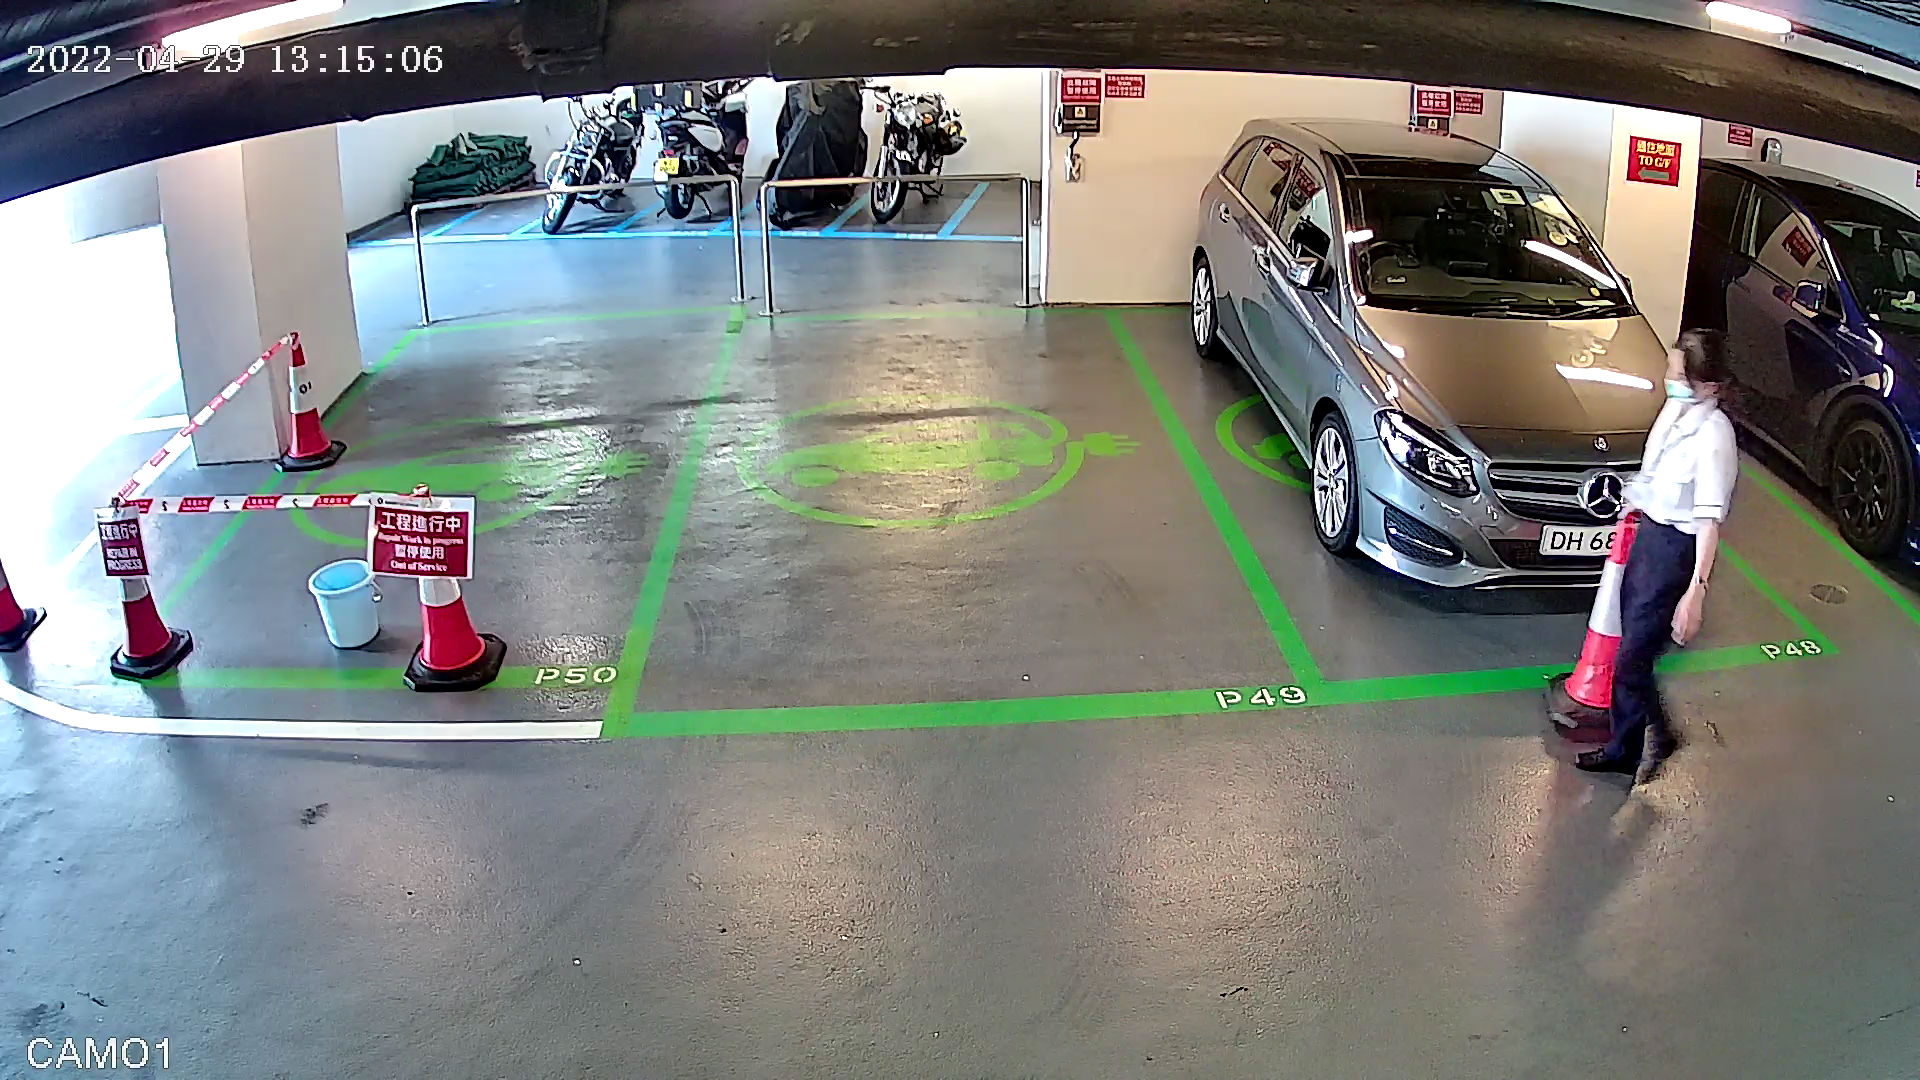car: (1178, 90, 1754, 640)
space: (587, 262, 1333, 775)
